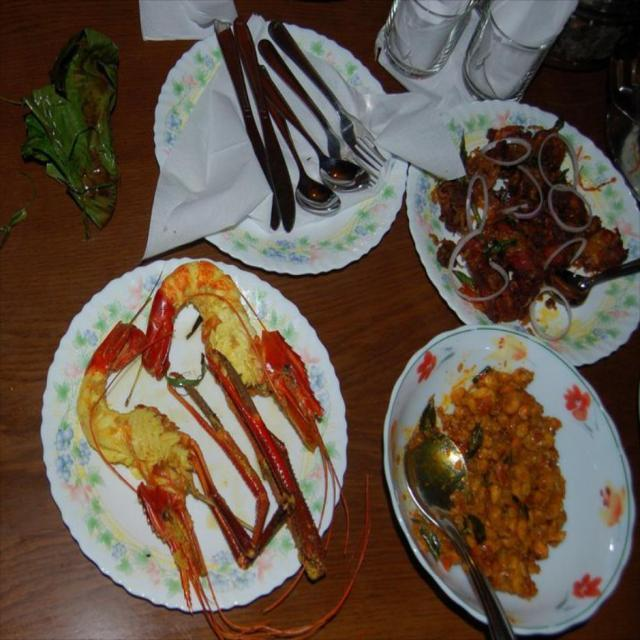ceramic plate: (17, 238, 360, 640), (145, 0, 408, 270), (424, 90, 634, 357)
